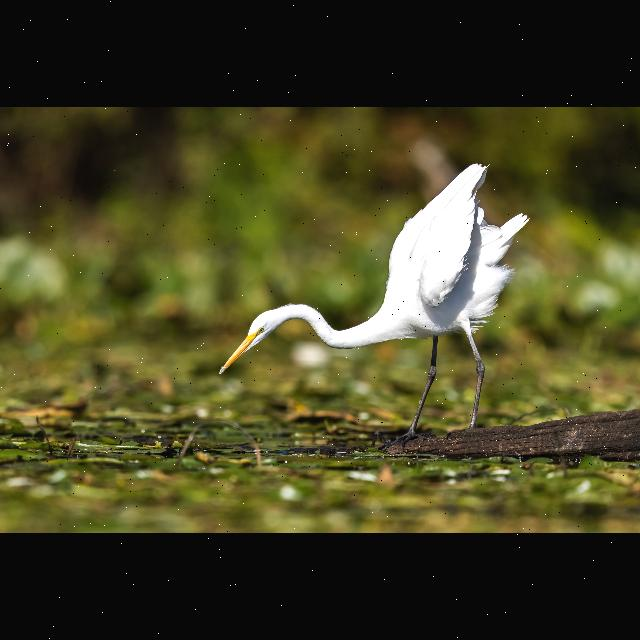egret: (215, 160, 532, 452)
